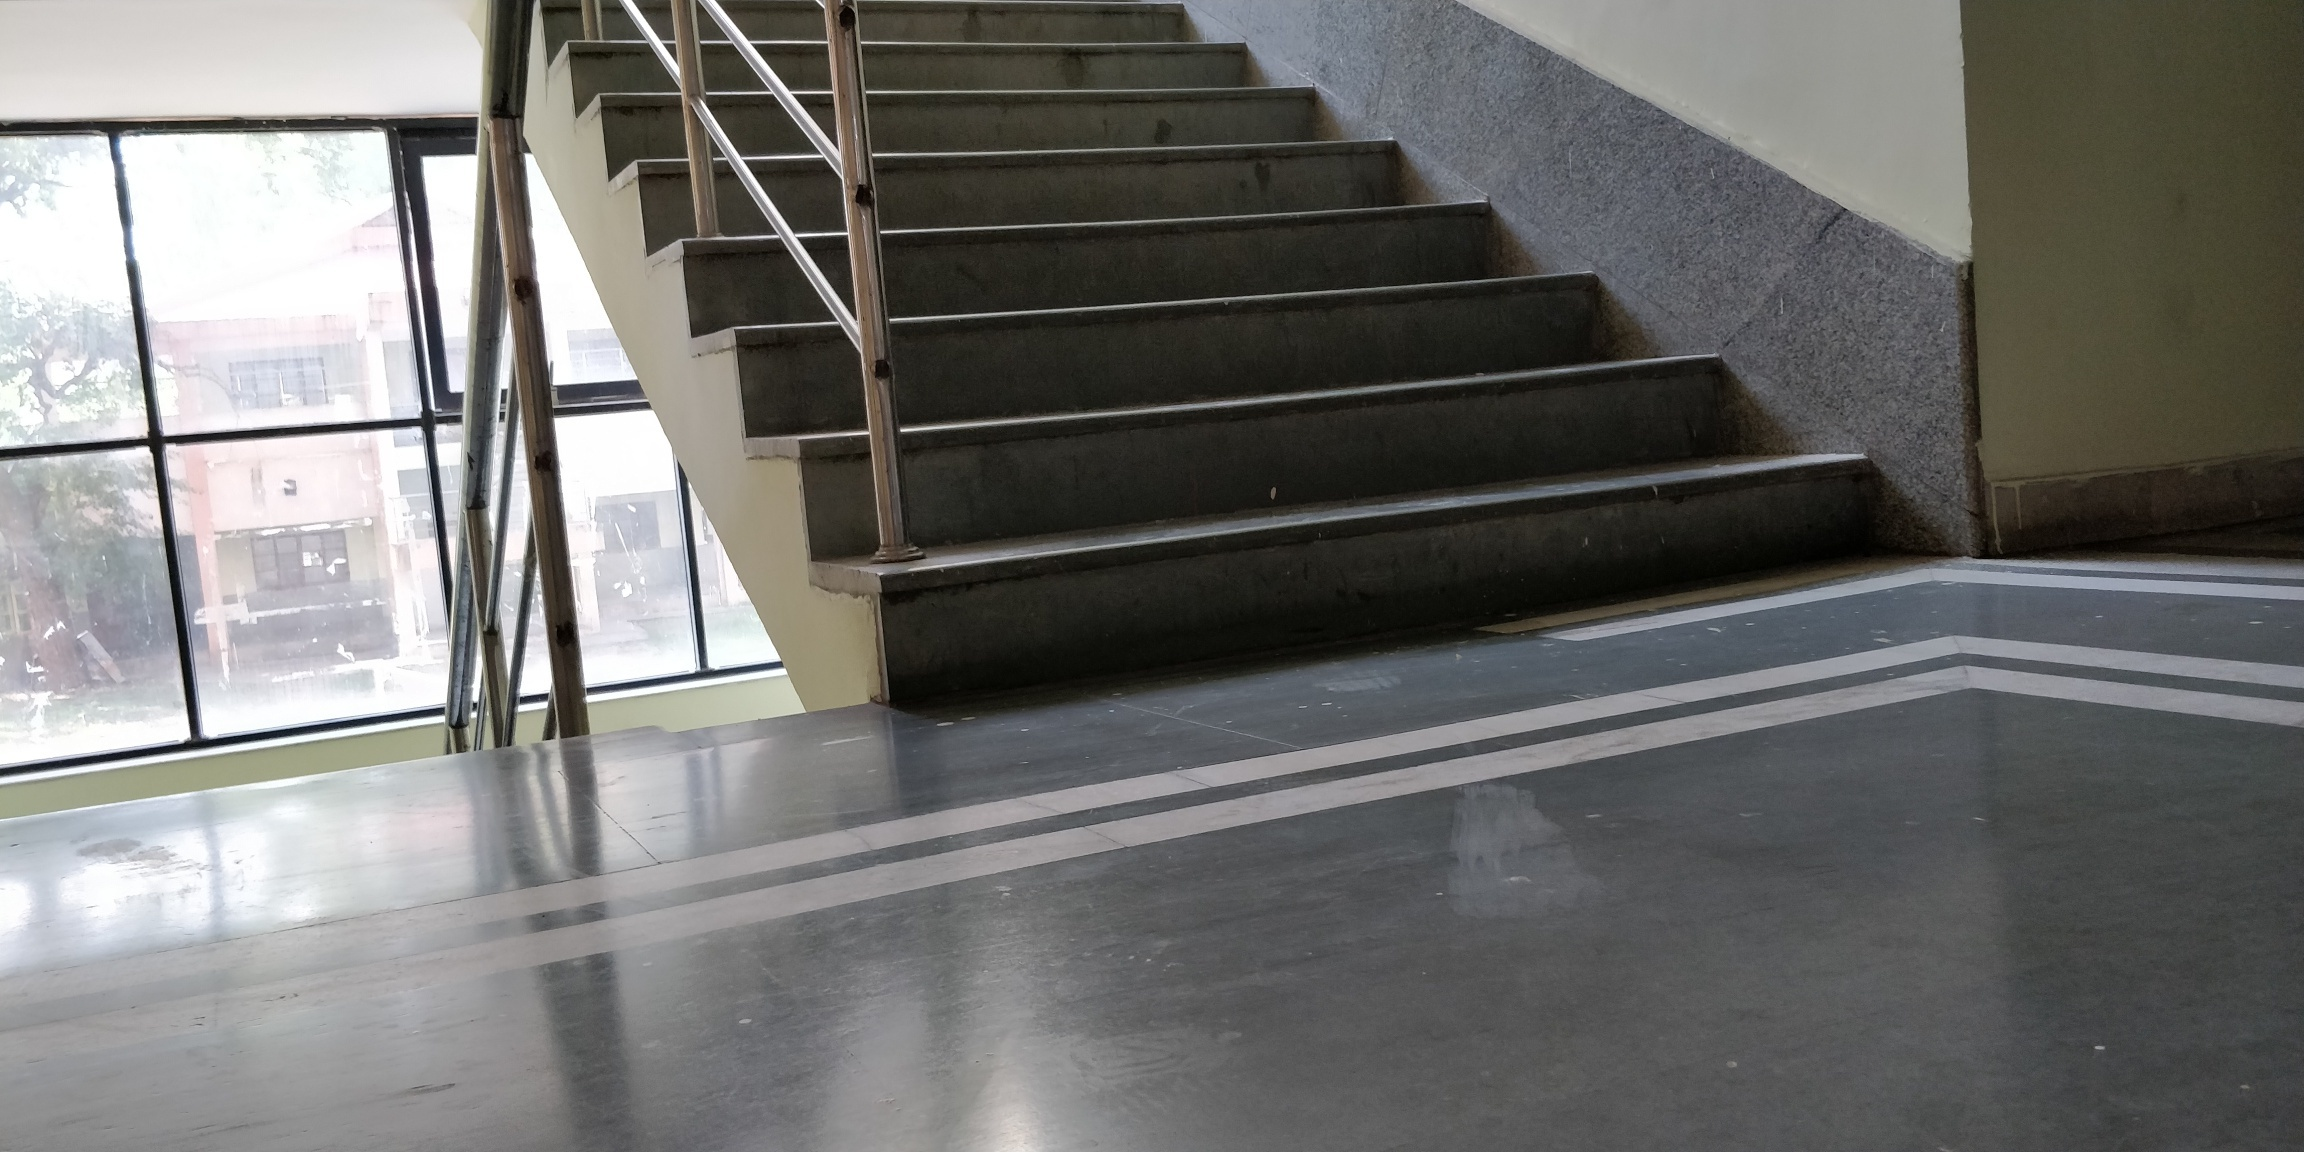stairs_up: (617, 18, 1896, 600)
